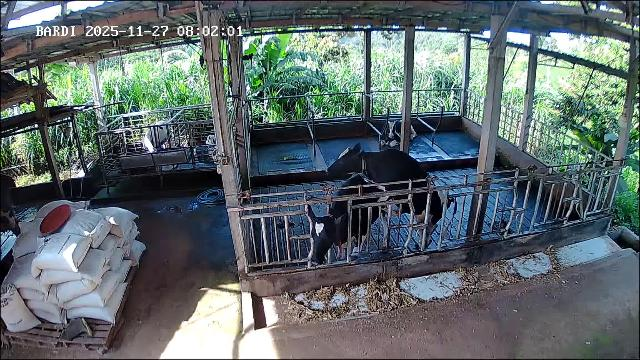mounting: (324, 144, 448, 252)
